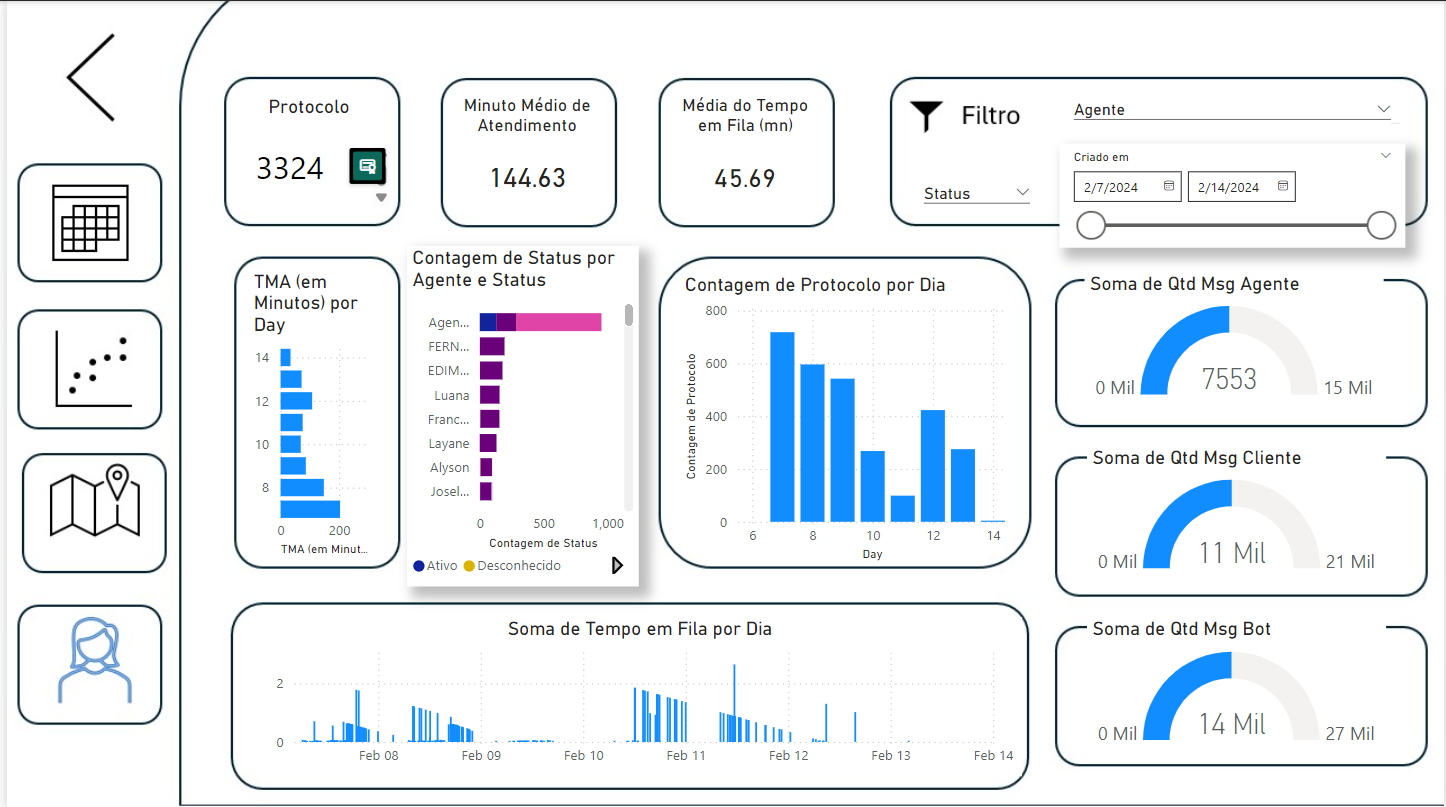

The page's visual inventory and layout, read from the dashboard file:
{"tool":"powerbi","page":{"name":"Personal","canvas":[1280,720],"ordinal":4},"visuals":[{"type":"cardVisual","title":"Minuto Médio de Atendimento ","fields":{"Data":["Sheet1.TMA"]},"box":[396,84,134,104],"z":0},{"type":"columnChart","title":"Soma de Tempo em Fila por Dia","fields":{"Category":["Sheet1.Criado em.Variation.Date Hierarchy.Day"],"Y":["Sum(Sheet1.Tempo em Fila)"]},"box":[223.8,548.8,680,141.2],"z":1000},{"type":"slicer","fields":{"Values":["Sheet1.Agente"]},"box":[937.8,83.9,308,30.8],"z":2000},{"type":"cardVisual","title":"Média do Tempo em Fila (mn)","fields":{"Data":["Sheet1.Média de Tempo em Fila por Agente"]},"box":[586.7,83.3,141.7,105],"z":3000},{"type":"slicer","fields":{"Values":["Sheet1.Criado em"]},"box":[937.8,126.6,308,92.4],"z":4000},{"type":"slicer","fields":{"Values":["Sheet1.Status"]},"box":[804,158,120,26],"z":5000},{"type":"gauge","fields":{"Y":["Sum(Sheet1.Qtd Msg Agente)"]},"box":[960,241.7,266.7,125],"z":6000},{"type":"columnChart","title":"Contagem de Protocolo por Dia","fields":{"Y":["Count(Sheet1.Protocolo)"],"Category":["Sheet1.Criado em.Variation.Date Hierarchy.Day"]},"box":[598.9,242.2,296.7,261.1],"z":7000},{"type":"barChart","fields":{"Category":["Sheet1.Criado em.Variation.Date Hierarchy.Month","Sheet1.Criado em.Variation.Date Hierarchy.Day"],"Y":["Sheet1.TMA (em Minutos)"]},"box":[214.4,238.9,122.2,260],"z":8000},{"type":"cardVisual","title":"Protocolo","fields":{"Data":["Count(Sheet1.Protocolo)"]},"box":[202.6,83.8,132.8,104.8],"z":9000},{"type":"gauge","fields":{"Y":["Sum(Sheet1.Qtd Msg Cliente)"]},"box":[961.7,396.7,266.7,125],"z":10000},{"type":"gauge","fields":{"Y":["Sum(Sheet1.Qtd Msg Bot)"]},"box":[961.2,548.8,266.2,126.2],"z":11000},{"type":"barChart","fields":{"Category":["Sheet1.Agente"],"Y":["CountNonNull(Sheet1.Status)"],"Series":["Sheet1.Status"]},"box":[356.7,218.3,206.7,303.3],"z":12000},{"type":"shape","box":[16.8,536.6,118.8,100.6],"z":13000},{"type":"shape","box":[16.8,403.8,118.8,99.2],"z":14000},{"type":"shape","box":[16.8,282.3,118.8,90.8],"z":15000},{"type":"shape","box":[16.8,146.7,118.8,96.4],"z":16000},{"type":"shape","box":[0,8.3,135,118.3],"z":17000},{"type":"htmlViewerA9520C4C697347CDB4EA10E418B1A6E7","title":"Protocolo","fields":{"html":["Sheet1.Texto Responsivo"],"tooltips":["Sheet1.Contagem de Protocolo"]},"box":[196.8,126.6,143.7,56.5],"z":18000}]}

Visuals, with their boxes in screenshot pixels (x1, y1, x2, y2), scaled from the page's 1280x720 canvas onto the 1446x807 screenshot:
"Minuto Médio de Atendimento " cardVisual: [447, 94, 599, 211]
"Soma de Tempo em Fila por Dia" columnChart: [253, 615, 1021, 773]
slicer - Sheet1.Agente: [1059, 94, 1407, 129]
"Média do Tempo em Fila (mn)" cardVisual: [663, 93, 823, 211]
slicer - Sheet1.Criado em: [1059, 142, 1407, 245]
slicer - Sheet1.Status: [908, 177, 1044, 206]
gauge - Sum(Sheet1.Qtd Msg Agente): [1084, 271, 1386, 411]
"Contagem de Protocolo por Dia" columnChart: [677, 271, 1012, 564]
barChart - Sheet1.Criado em.Variation.Date Hierarchy.Month x Sheet1.Criado em.Variation.Date Hierarchy.Day: [242, 268, 380, 559]
"Protocolo" cardVisual: [229, 94, 379, 211]
gauge - Sum(Sheet1.Qtd Msg Cliente): [1086, 445, 1388, 585]
gauge - Sum(Sheet1.Qtd Msg Bot): [1086, 615, 1387, 757]
barChart - Sheet1.Agente x CountNonNull(Sheet1.Status): [403, 245, 636, 585]
shape: [19, 601, 153, 714]
shape: [19, 453, 153, 564]
shape: [19, 316, 153, 418]
shape: [19, 164, 153, 272]
shape: [0, 9, 153, 142]
"Protocolo" htmlViewerA9520C4C697347CDB4EA10E418B1A6E7: [222, 142, 385, 205]
